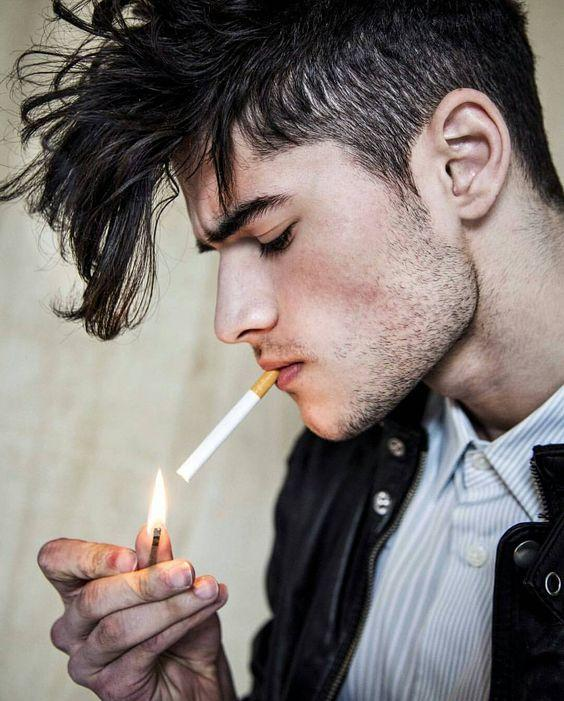cigarette: (176, 371, 280, 487)
